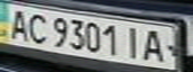0: (81, 19, 103, 54)
1: (100, 21, 121, 56)
3: (66, 17, 87, 52)
9: (45, 15, 72, 48)
A: (139, 26, 169, 64), (3, 7, 33, 40)
C: (24, 11, 51, 45)
I: (121, 25, 145, 61)
